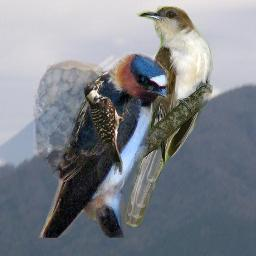Cuckoo: (124, 6, 213, 227)
Swallow: (33, 51, 169, 238)
Woodpecker: (84, 81, 131, 175)
